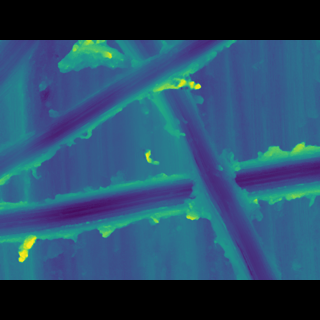Loch: (112, 69, 285, 250), (0, 70, 238, 175), (0, 149, 320, 224)
